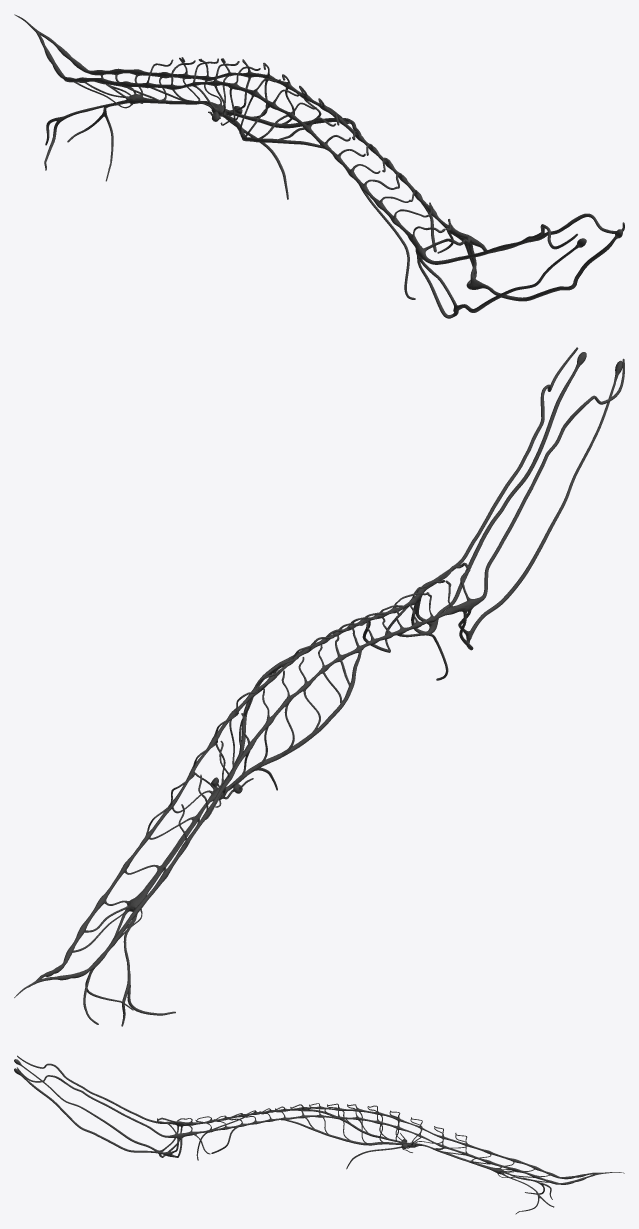
File: SYMP.glb
3 views of the same model, one above another, from view 1: azimuth 30°, elevation 25°; view 2: azimuth 150°, elevation 25°; view 3: azimuth 270°, elevation 25° (orthographic). The views are drawn at different scales.
Parts seen in each view (by area): view 1: SYMP; view 2: SYMP; view 3: SYMP.
Part boxes in pixels (box(x1,y1,x2,y2)): SYMP: box(14, 14, 624, 318); SYMP: box(14, 347, 624, 1026); SYMP: box(14, 1055, 624, 1214).
Size of the model in its own units: 0.0231 by 0.0611 by 0.216.
1 material, 1 textured.
